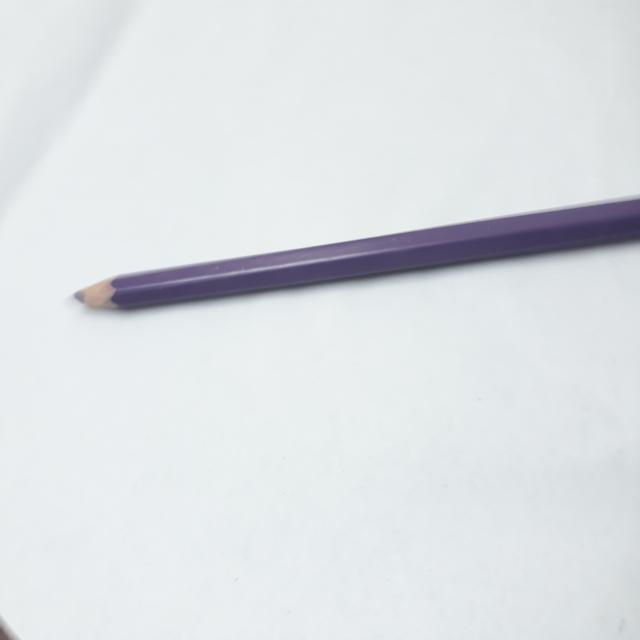pencil: (76, 190, 640, 325)
